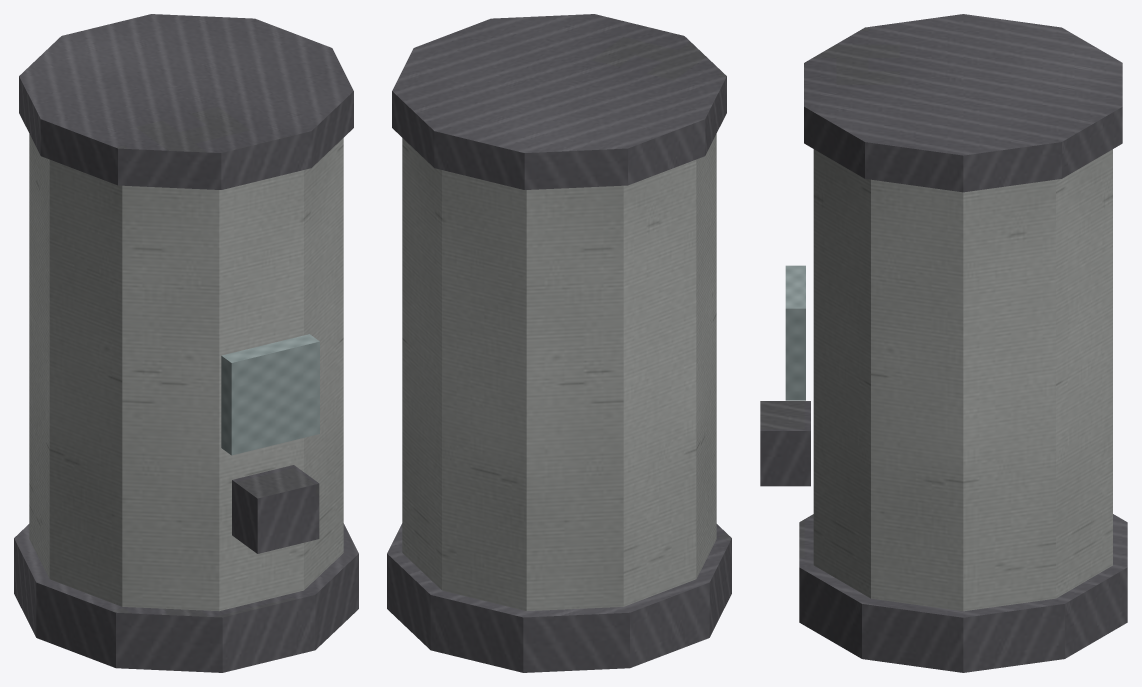
The model's file is coffeemachine.glb.
3 views of the same model, side by side, from view 1: azimuth 30°, elevation 25°; view 2: azimuth 150°, elevation 25°; view 3: azimuth 270°, elevation 25° (orthographic).
Visible parts, largest first — view 1: NC_coffeemachine; view 2: NC_coffeemachine; view 3: NC_coffeemachine.
Boxes of the visible parts, x1,y1,x2,y2 form: NC_coffeemachine: (14, 14, 358, 672); NC_coffeemachine: (387, 14, 731, 672); NC_coffeemachine: (760, 14, 1127, 672).
Bounding box in the file's own units: 0.34 × 0.56 × 0.3617.
Materials: 3 (3 with a texture image).
